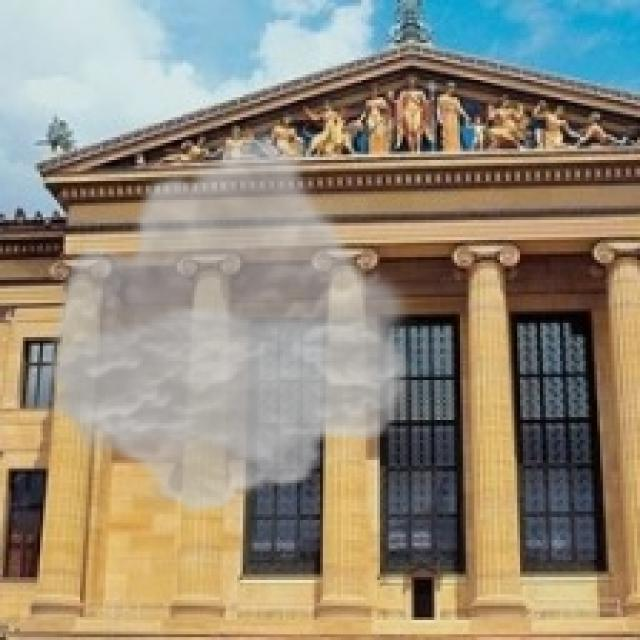smoke: (37, 126, 420, 517)
